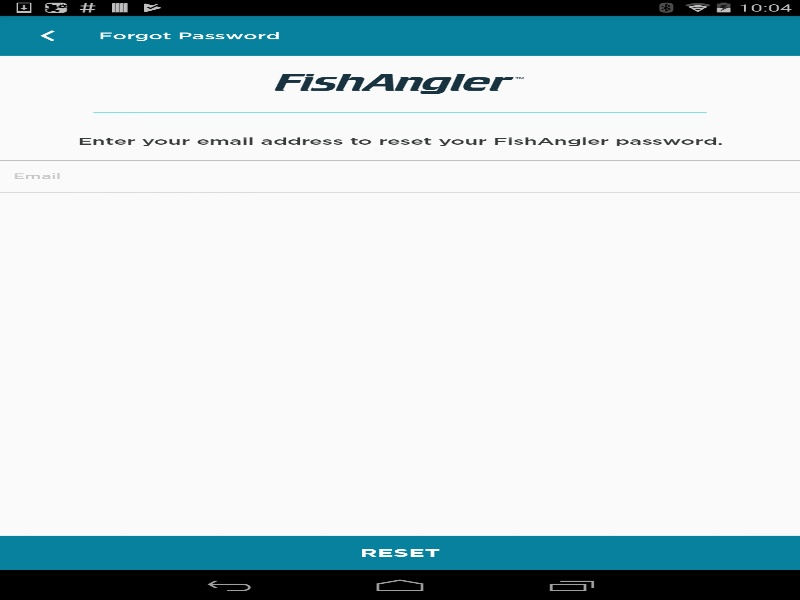Button: (0, 535, 800, 570), (10, 15, 85, 55)
Input: (0, 160, 800, 191)
